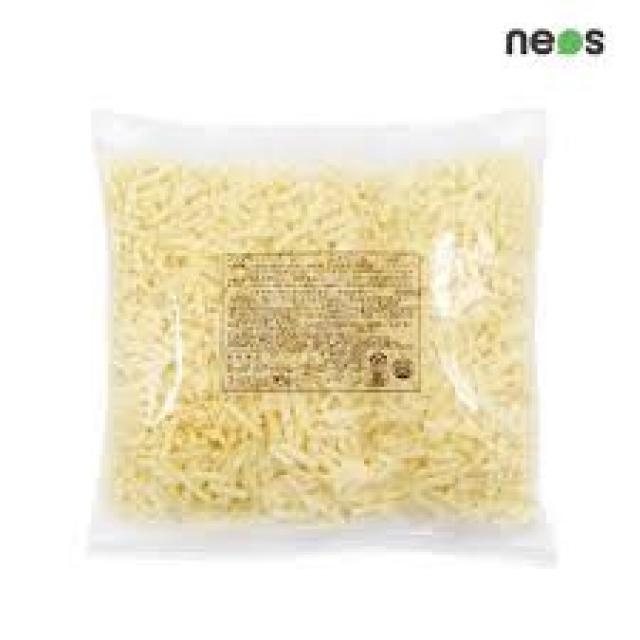Cheese: (100, 145, 534, 518)
